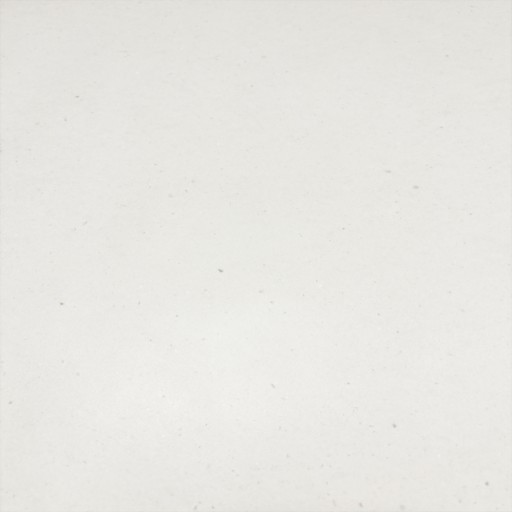lego: (247, 227, 266, 287)
